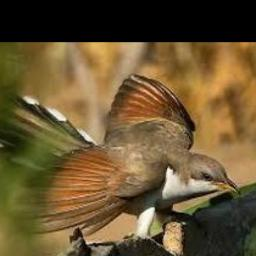Cuckoo: (0, 73, 241, 239)
